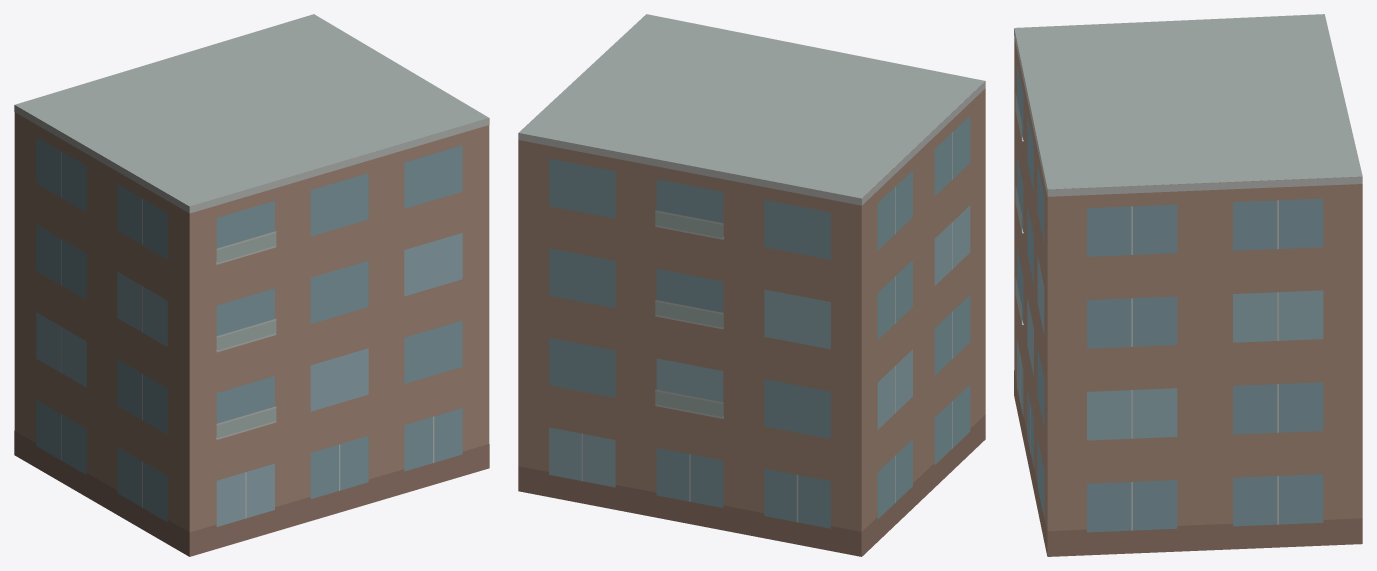
Rendered from survey-upis-32662159.glb.
The picture shows the model from 3 angles, left to right: view 1: azimuth 30°, elevation 25°; view 2: azimuth 150°, elevation 25°; view 3: azimuth 270°, elevation 25°; orthographic projection. The views are drawn at different scales.
Visible parts, largest first — view 1: survey-upis-32662159.tmp; view 2: survey-upis-32662159.tmp; view 3: survey-upis-32662159.tmp.
Part boxes in pixels (x1,y1,x2,y2): survey-upis-32662159.tmp: (14, 14, 489, 556); survey-upis-32662159.tmp: (518, 14, 985, 556); survey-upis-32662159.tmp: (1014, 14, 1362, 556).
Bounding box in the file's own units: 12.5 × 12.2 × 10.5.
